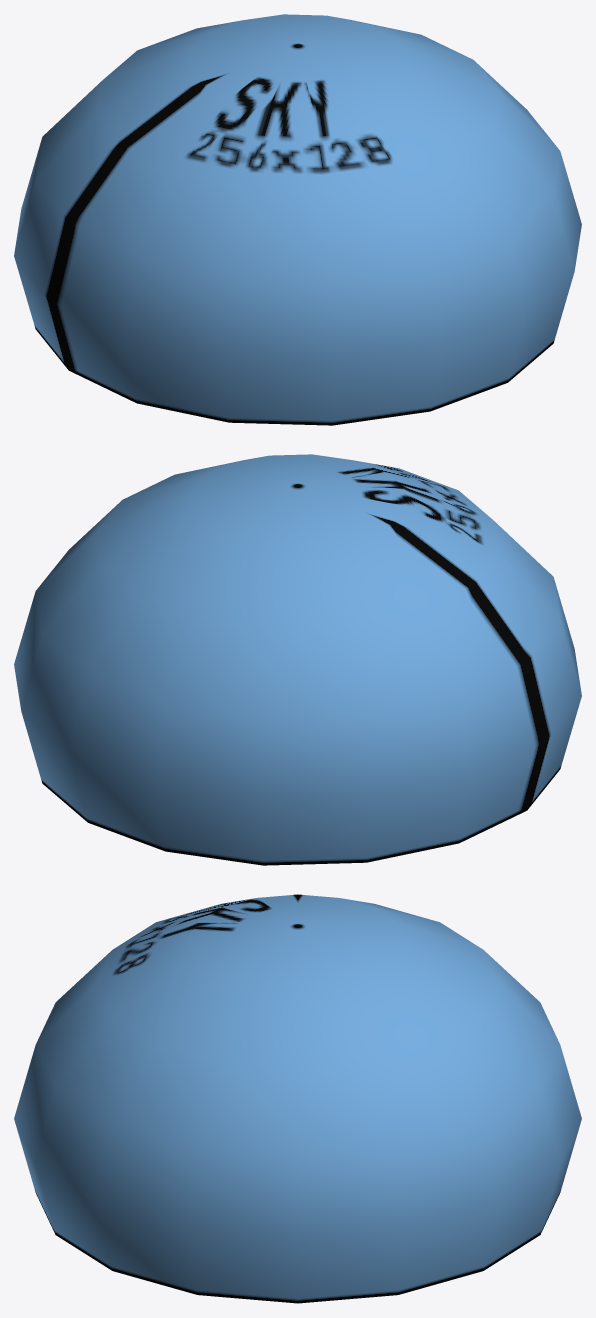
File: sky.obj
3 renders of one model, top to bottom at view 1: azimuth 30°, elevation 25°; view 2: azimuth 150°, elevation 25°; view 3: azimuth 270°, elevation 25°, orthographic.
Parts seen in each view (by area): view 1: Sphere; view 2: Sphere; view 3: Sphere.
Boxes of the visible parts, x1,y1,x2,y2 form: Sphere: [14, 14, 581, 425]; Sphere: [14, 454, 581, 865]; Sphere: [14, 894, 581, 1303].
Bounding box in the file's own units: 100 × 51.85 × 100.
